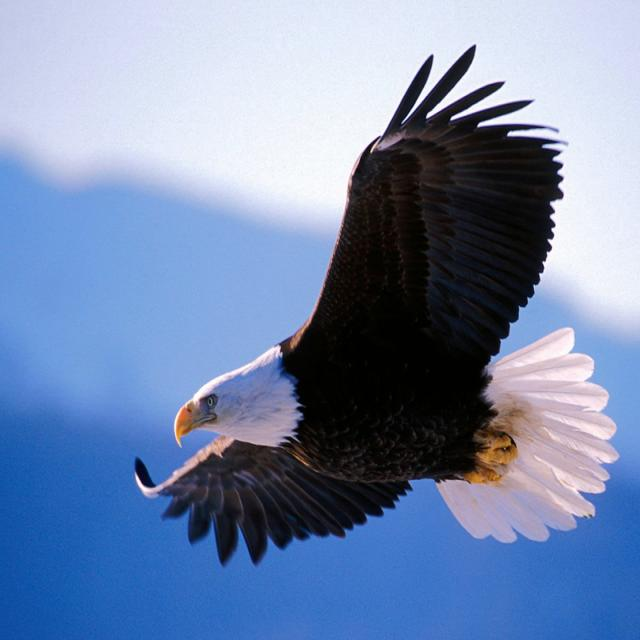eagle: (135, 46, 617, 564)
